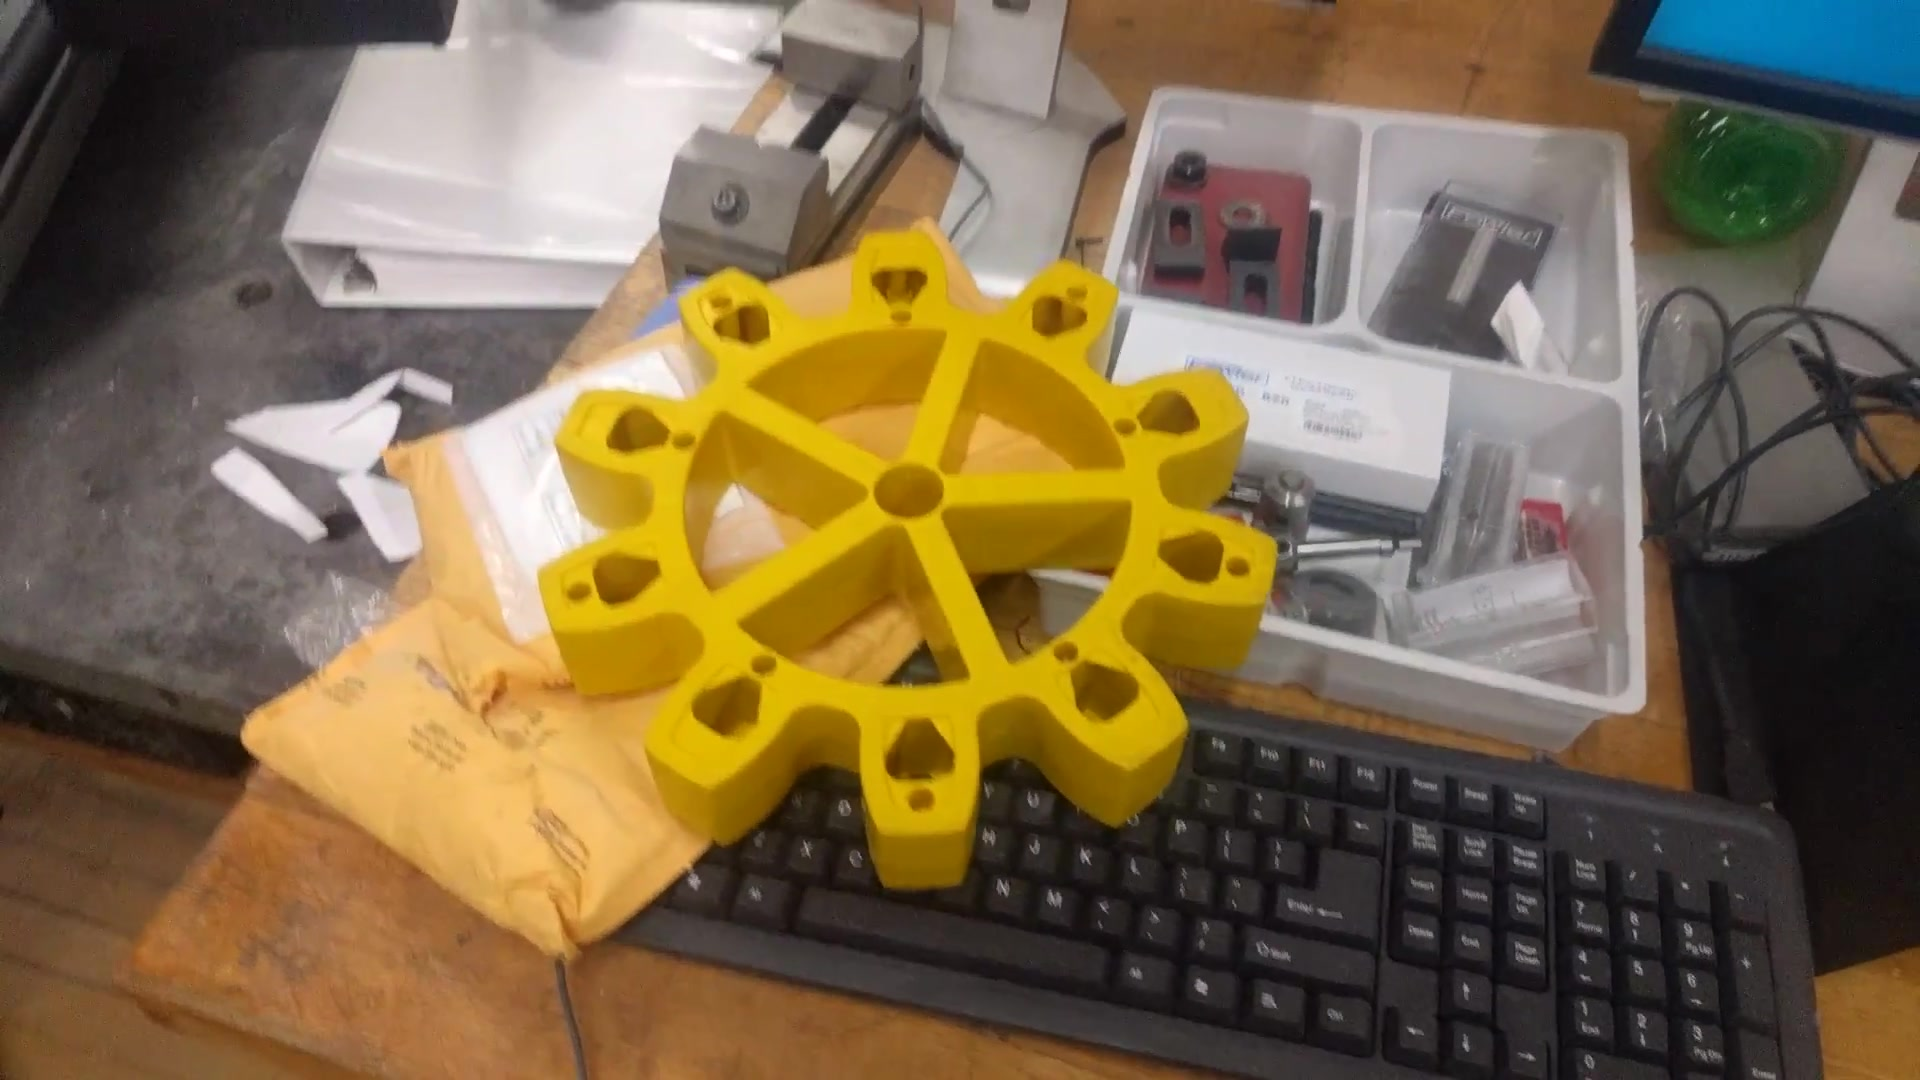gear: (514, 232, 1340, 893)
